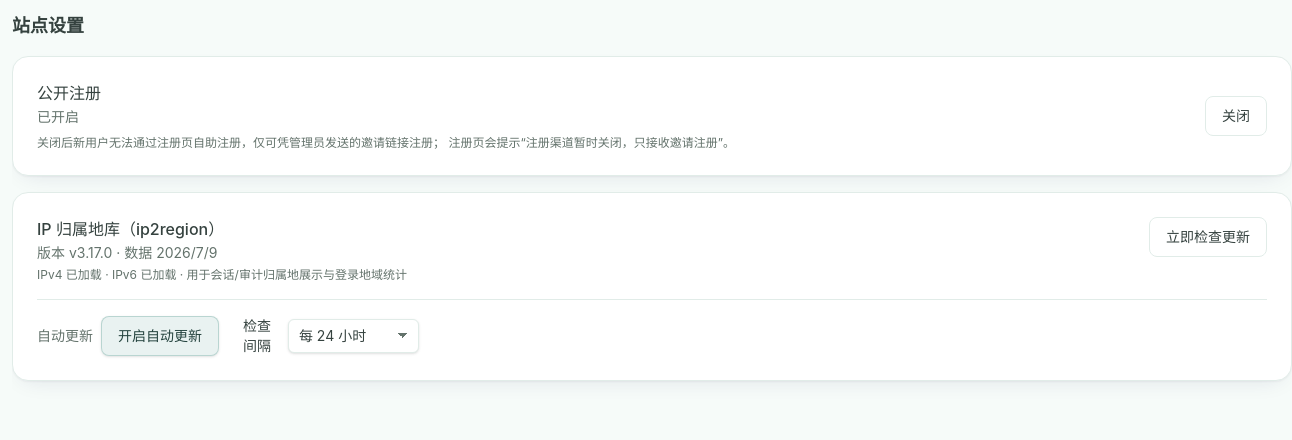
Test: AdminSettingsPanel › 后台更新完成后刷新并提示最新版本
This screenshot has width=1292, height=440.
Expected: the text "版本 v3.17.0 · 数据 2026/7/9" is shown, [37, 244, 218, 261]
Click the button "立即检查更新" at (1208, 237), box [1149, 217, 1267, 257]
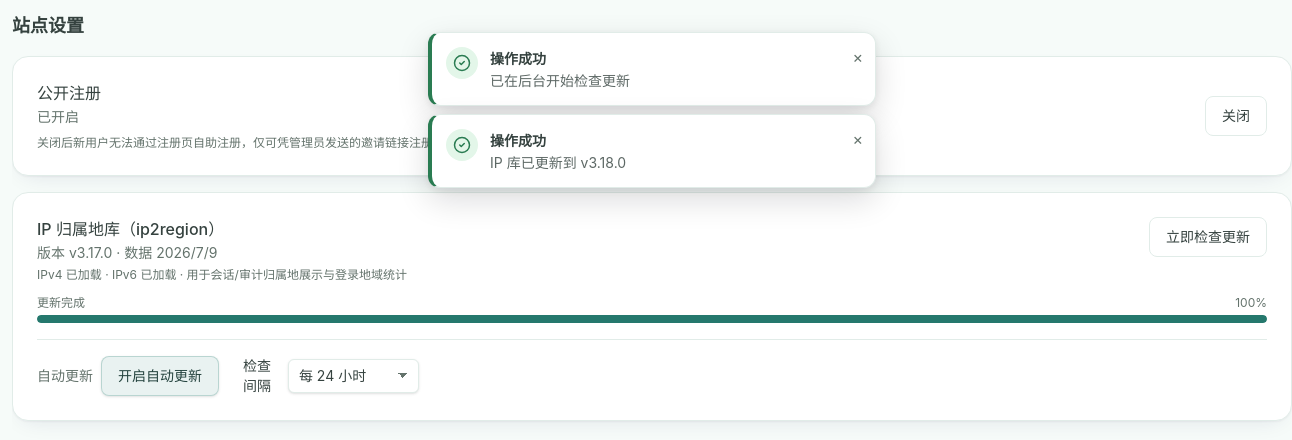
Now the text "IP 库已更新到 v3.18.0" is shown, box [490, 154, 626, 171]
